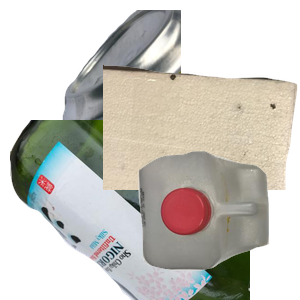glass: (10, 120, 250, 300)
metal: (60, 10, 300, 190)
plastic: (136, 149, 300, 300)
trash: (103, 62, 300, 242)
